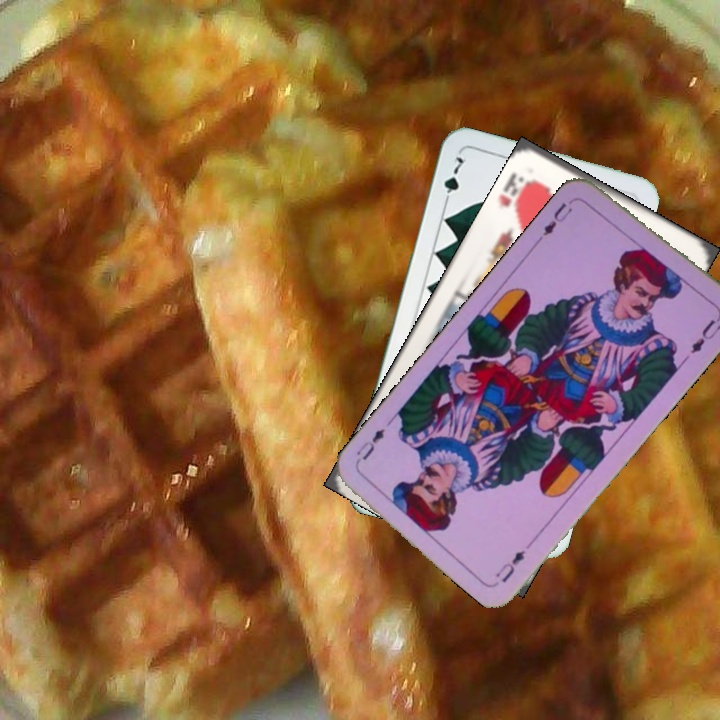EU: (535, 194, 579, 243), (491, 546, 528, 585)
G7: (439, 152, 467, 209)
HK: (495, 167, 536, 214)
